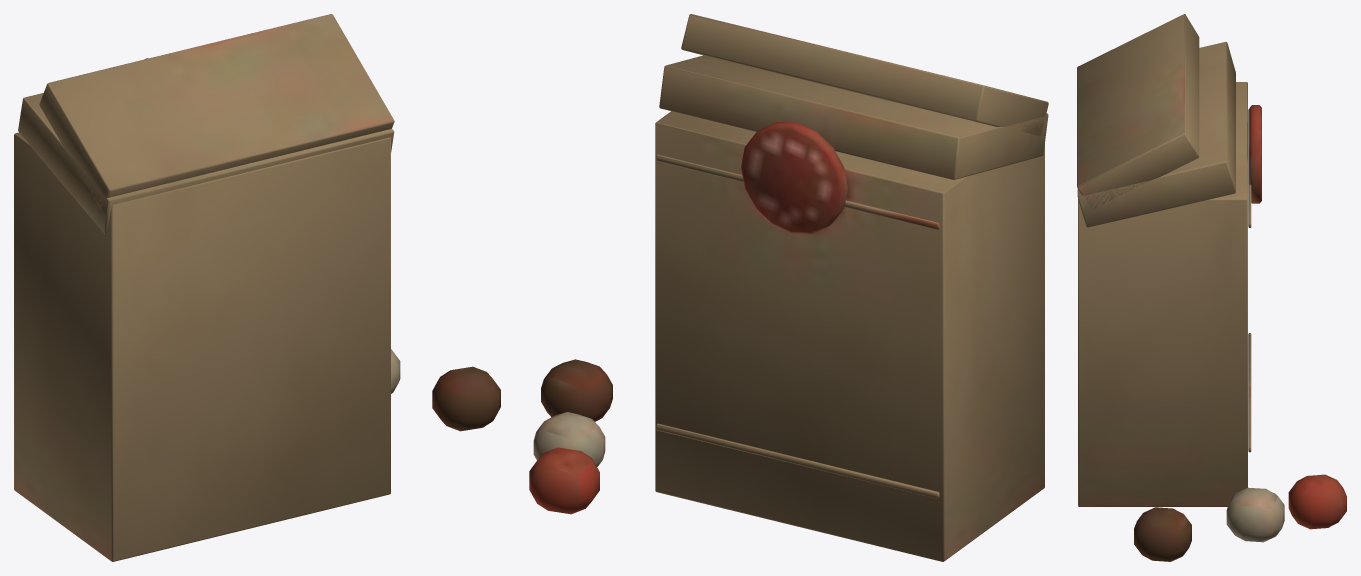
File: pellet_bag.glb
The picture shows the model from 3 angles, left to right: view 1: azimuth 30°, elevation 25°; view 2: azimuth 150°, elevation 25°; view 3: azimuth 270°, elevation 25°; orthographic projection. The views are drawn at different scales.
Parts seen in each view (by area): view 1: prop_pellet_bag_felt; view 2: prop_pellet_bag_felt; view 3: prop_pellet_bag_felt.
Part boxes in pixels (box(x1,y1,x2,y2)): prop_pellet_bag_felt: box(14, 14, 500, 561); prop_pellet_bag_felt: box(529, 14, 1048, 561); prop_pellet_bag_felt: box(1077, 14, 1346, 561).
Bounding box in the file's own units: 0.2808 × 0.2676 × 0.1744.
1 material, 1 textured.
